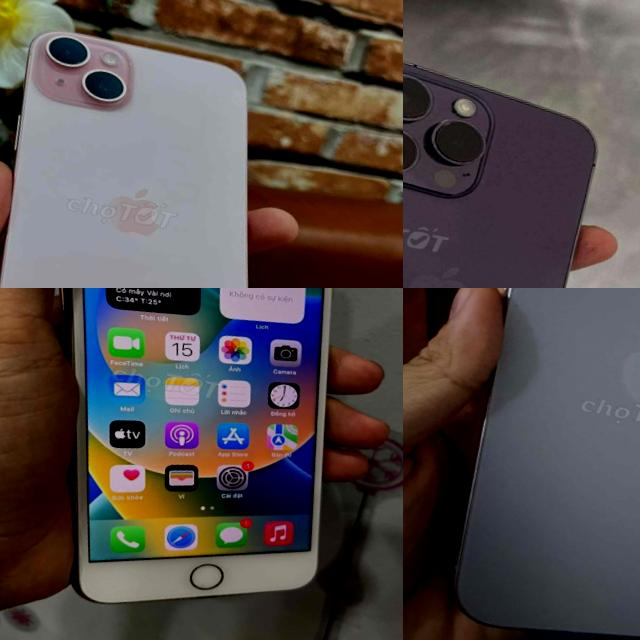gen_12_13: (0, 19, 321, 288)
gen_14: (403, 34, 610, 288)
gen_15: (426, 288, 640, 640)
gen_7_8: (0, 288, 403, 640)
